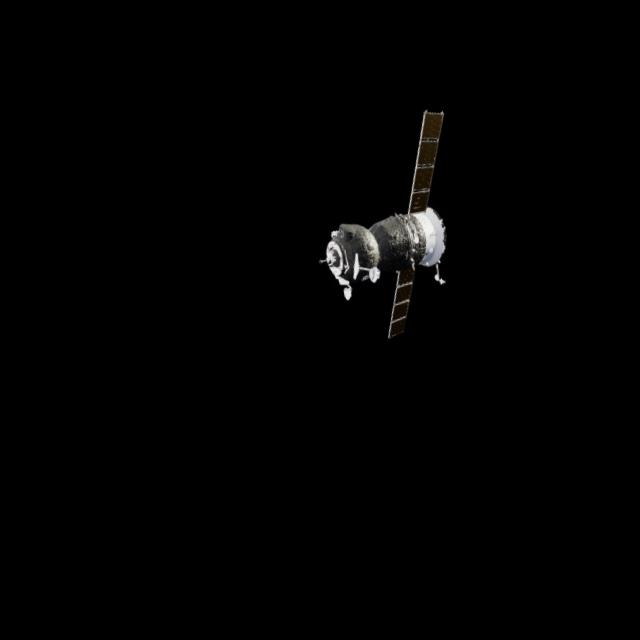Satellites revolving around earth: (295, 104, 483, 350)
